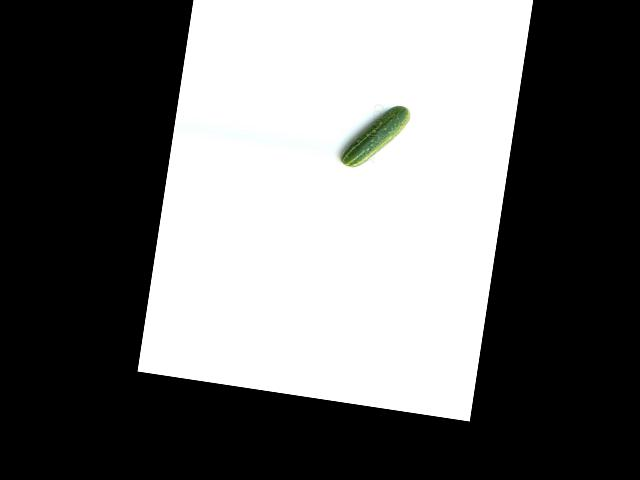cucumber: (339, 98, 411, 175)
